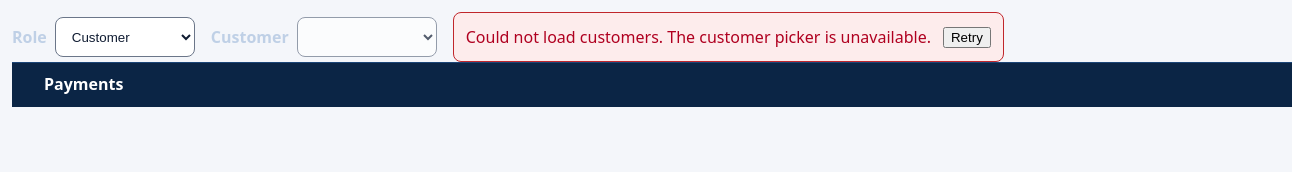
Scenario: RoleSwitcher › shows error with Retry that refetches
Expected: the message shows "Could not load customers", [466,26,931,48]
Click the button "Retry" at (967, 37), box [943,26,991,48]
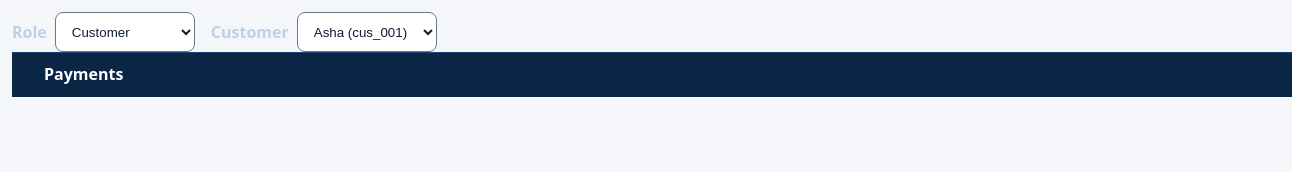
Now the message "Could not load customers. The customer picker is unavailable. Retry" is gone
